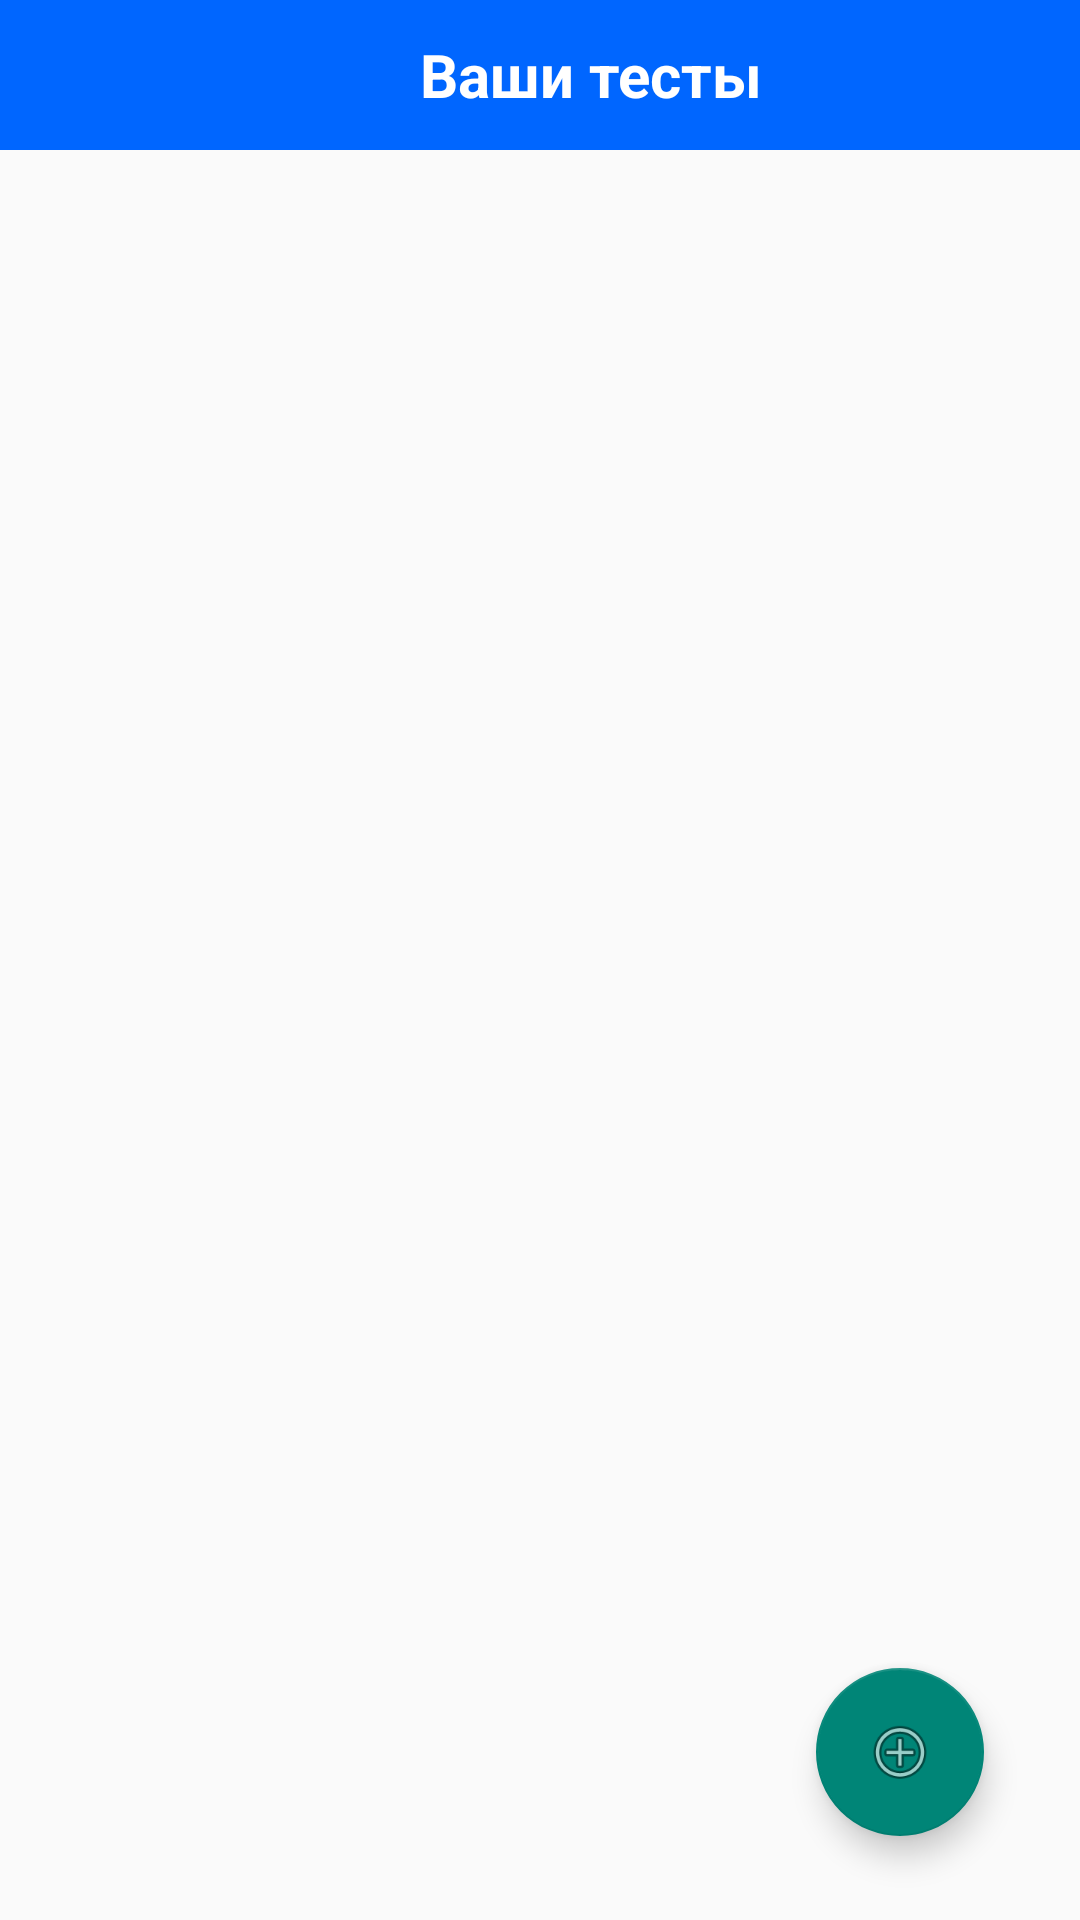

Locate icon controls on the screen. Image size 1080px x 1920px, boxes as (x1, y1, x2, y2).
add: (816, 1668, 984, 1836)
